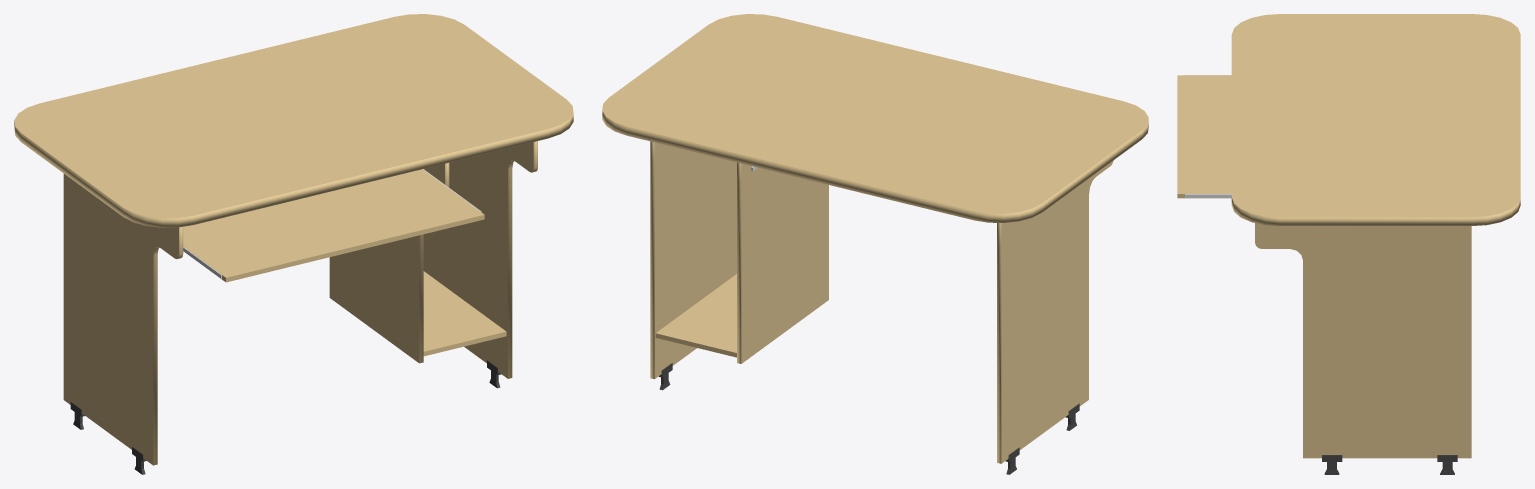
The model's file is desk.gltf.
3 views of the same model, side by side, from view 1: azimuth 30°, elevation 25°; view 2: azimuth 150°, elevation 25°; view 3: azimuth 270°, elevation 25° (orthographic). The views are drawn at different scales.
Visible parts, largest first — view 1: Bureau; view 2: Bureau; view 3: Bureau.
Boxes of the visible parts, box(x1,y1,x2,y2) form: Bureau: box(14, 14, 573, 474); Bureau: box(602, 14, 1148, 474); Bureau: box(1177, 14, 1520, 474).
Bounding box in the file's own units: 5 × 3.18 × 3.57.
